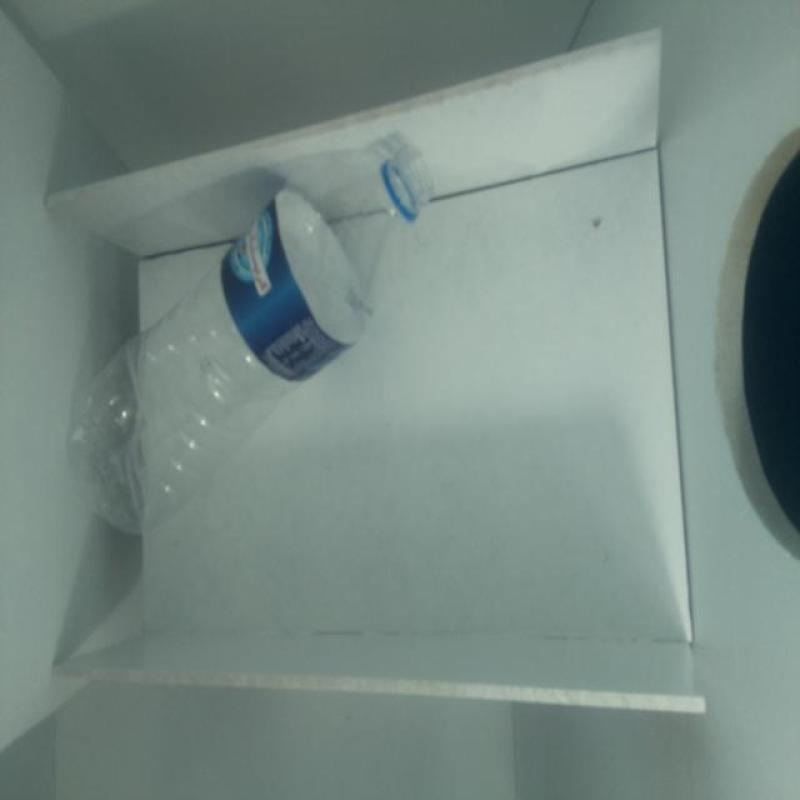botella: (70, 145, 434, 534)
